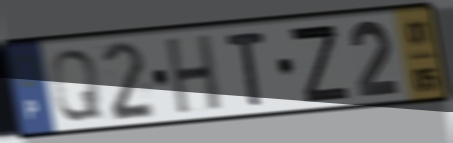2: (100, 39, 159, 124), (348, 17, 404, 102)
H: (165, 31, 224, 118)
Q: (48, 46, 106, 124)
T: (223, 29, 269, 109)
Z: (285, 22, 353, 105)
